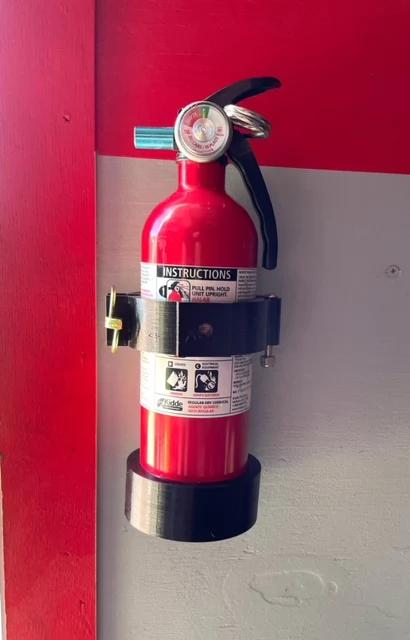wall-mounted: (87, 69, 321, 561)
